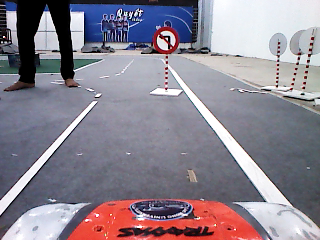ban: (152, 26, 180, 54)
